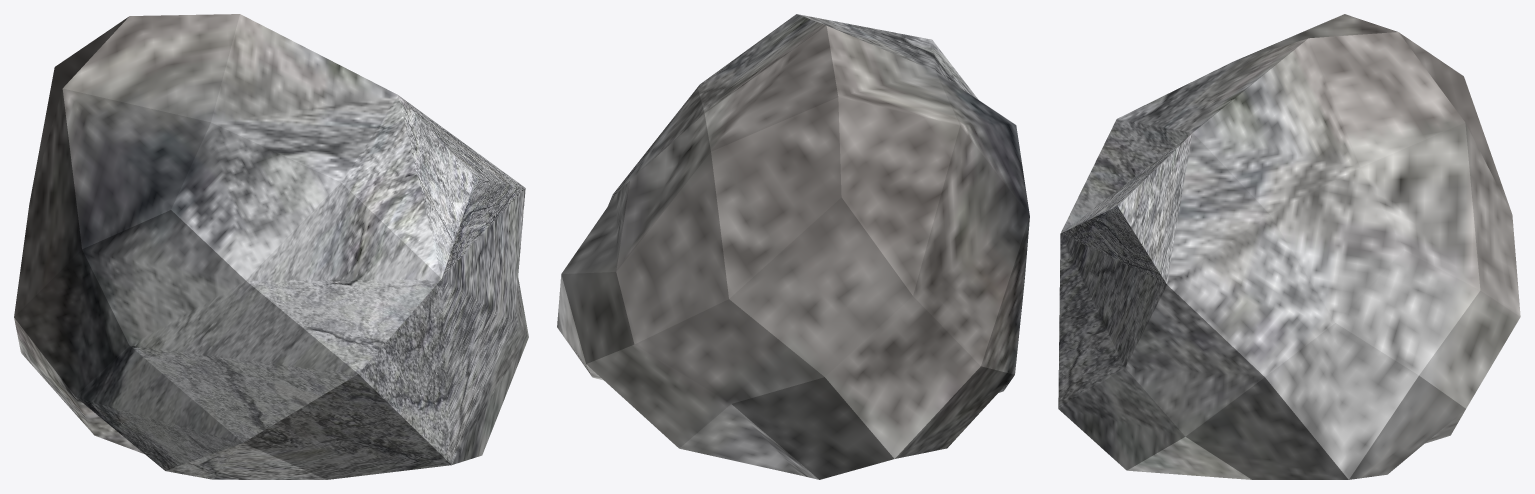
File: rock_2.fbx
3 renders of one model, left to right at view 1: azimuth 30°, elevation 25°; view 2: azimuth 150°, elevation 25°; view 3: azimuth 270°, elevation 25°, orthographic. The views are drawn at different scales.
Parts seen in each view (by area): view 1: Cube.009; view 2: Cube.009; view 3: Cube.009.
Boxes of the visible parts, <box> form: Cube.009: <box>14,14,528,479</box>; Cube.009: <box>557,14,1029,479</box>; Cube.009: <box>1058,14,1520,479</box>.
Size of the model in its own units: 772 by 686 by 752.
